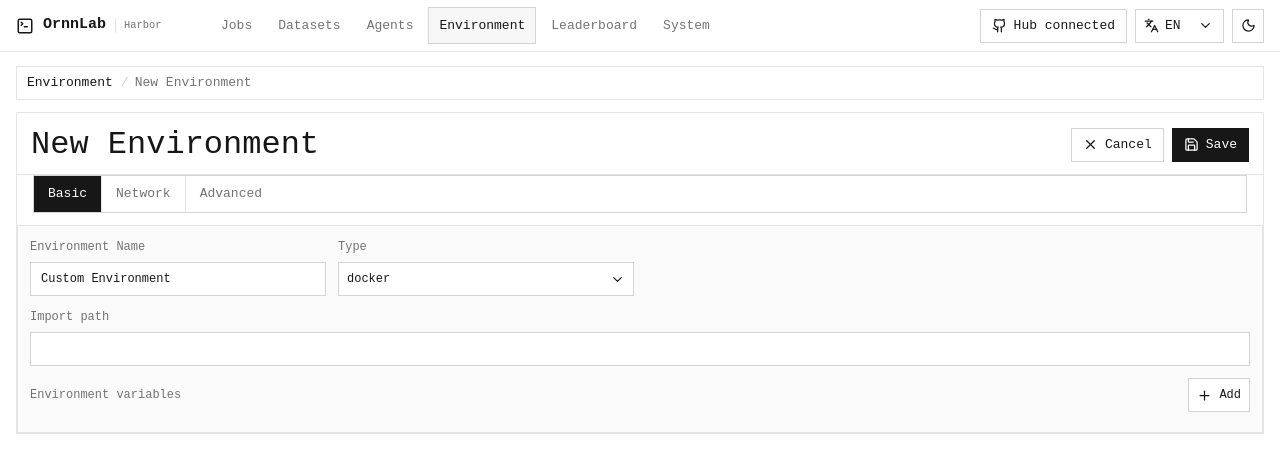
Test: Environment templates › shows field errors when a new Environment is submitted without a name
Clear the field labelled "Environment Name": (178, 279) [30, 262, 326, 296]
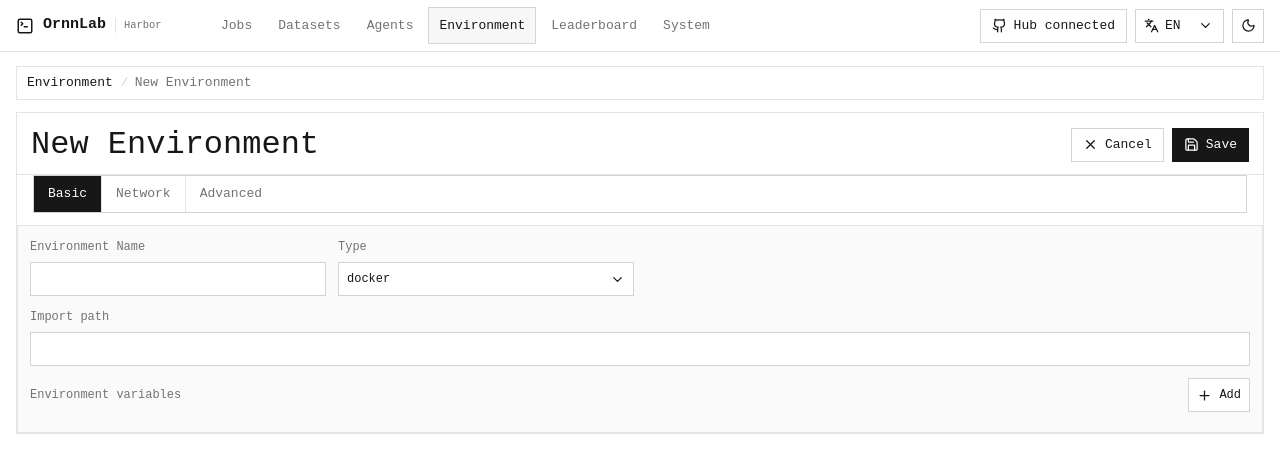
Click the button "Save": click(1210, 145) [1172, 128, 1249, 162]
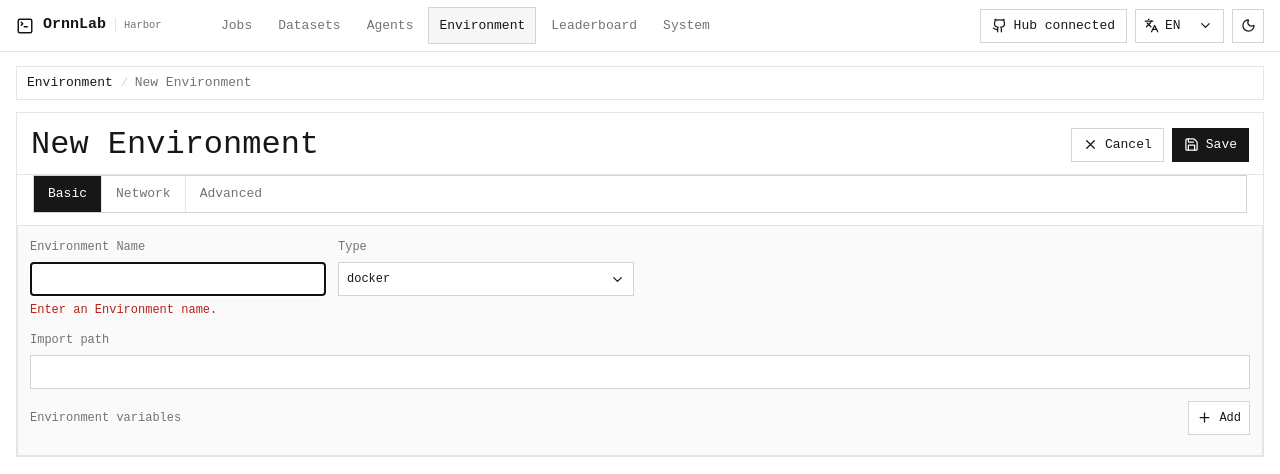
expect the text "Enter an Environment name." is shown: met, box [30, 303, 217, 317]
